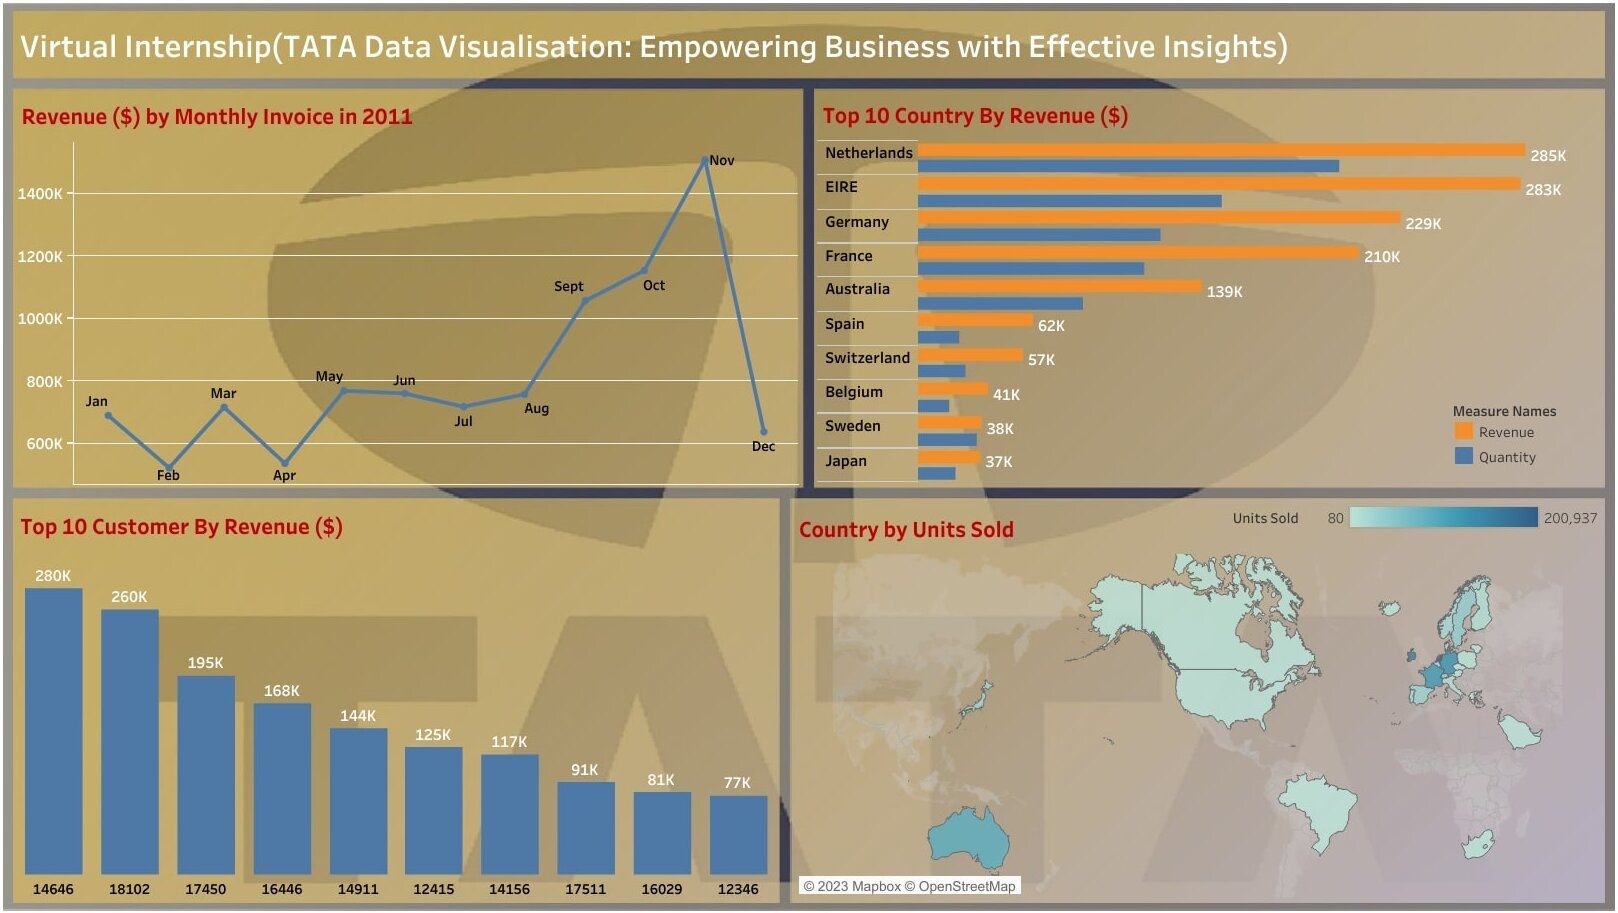

This screenshot's page, from the dashboard's own definition file:
{"tool":"tableau","page":{"name":"Dashboard 2","canvas":[1480,750],"ordinal":1},"visuals":[{"type":"image","param":"Image/Final_Yello_background_PPT_design.png","box":[8,8,1464,734]},{"type":"text","box":[106,20,1263,49]},{"type":"worksheet","title":"Top10_RevenueByCountry","mark":"Automatic","rows":["Country"],"box":[747,83,626,313]},{"type":"worksheet","title":"RevenueByMonth","mark":"Automatic","rows":["Calculation_579838510697254912"],"cols":["InvoiceDate"],"box":[106,84,625,313]},{"type":"legend","title":"Top10_RevenueByCountry","param":"[federated.10r20tj1pf2h3y1gfwg881wg249k].[:Measure Names]","box":[1254,328,119,67]},{"type":"legend","title":"UnitsSoldByCountry","param":"[federated.10r20tj1pf2h3y1gfwg881wg249k].[sum:Quantity:qk]","box":[1079,411,297,30]},{"type":"worksheet","title":"Top10_RevenueByCustomers","mark":"Automatic","rows":["Calculation_579838510697254912"],"cols":["CustomerID"],"box":[105,412,609,317]},{"type":"worksheet","title":"UnitsSoldByCountry","mark":"Automatic","box":[728,414,646,314]}]}

Visuals, with their boxes on the page's 1480x750 design canvas (x1, y1, x2, y2). These are canvas units, not pixel positions in the 1618x913 screenshot, which may show the page scaled, cropped or inside an application window:
image: bbox(8, 8, 1472, 742)
text: bbox(106, 20, 1369, 69)
"Top10_RevenueByCountry" worksheet: bbox(747, 83, 1373, 396)
"RevenueByMonth" worksheet: bbox(106, 84, 731, 397)
"Top10_RevenueByCountry" legend: bbox(1254, 328, 1373, 395)
"UnitsSoldByCountry" legend: bbox(1079, 411, 1376, 441)
"Top10_RevenueByCustomers" worksheet: bbox(105, 412, 714, 729)
"UnitsSoldByCountry" worksheet: bbox(728, 414, 1374, 728)
